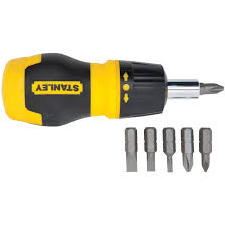Screwdriver: (3, 43, 225, 128)
